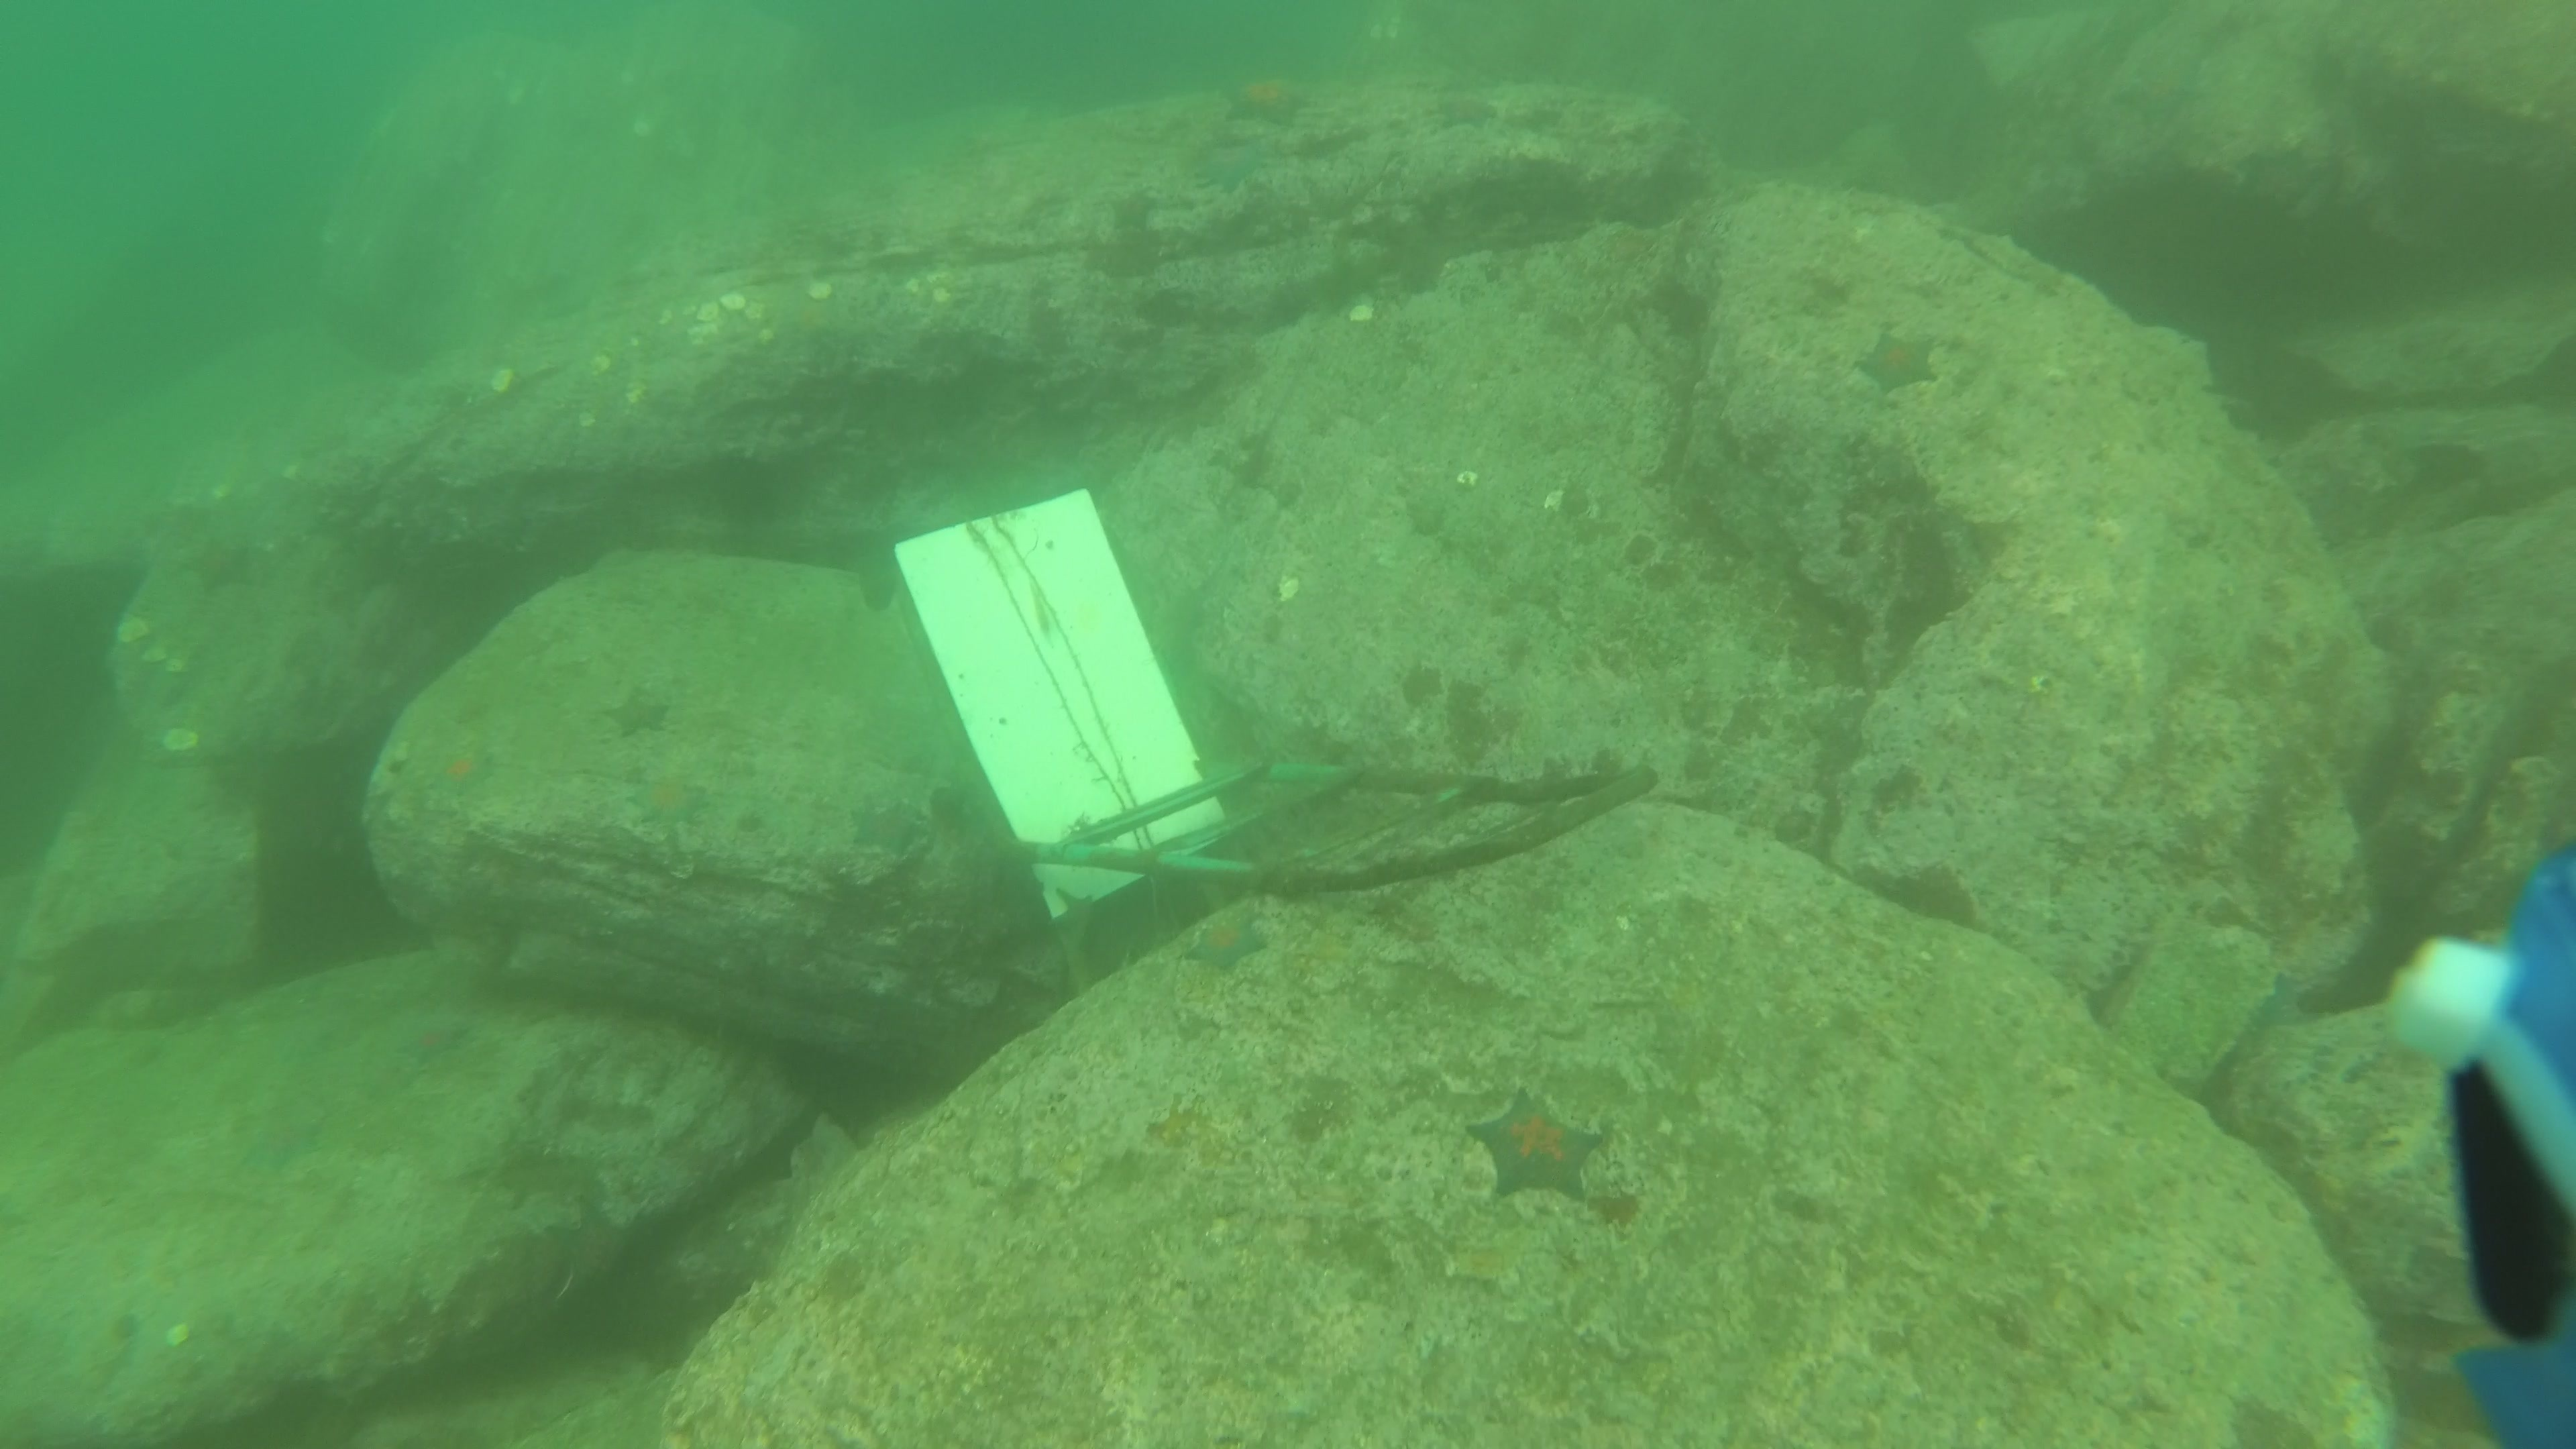starfish: (1460, 1083, 1612, 1212), (1177, 901, 1279, 978), (1217, 67, 1322, 138), (1854, 324, 1943, 400), (846, 794, 938, 867), (625, 768, 718, 835), (177, 536, 257, 596), (423, 741, 504, 800), (600, 686, 678, 741), (1430, 81, 1507, 133), (1104, 184, 1162, 239)
